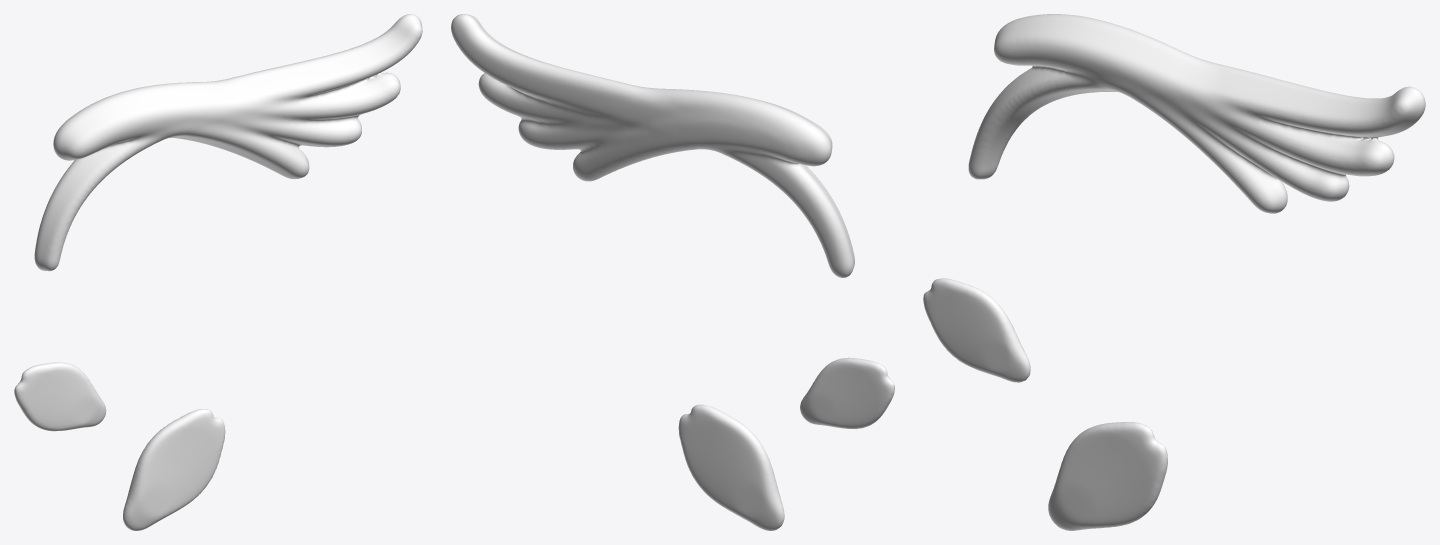
The model's file is announcement left flourishes v0.2.glb.
The picture shows the model from 3 angles, left to right: view 1: azimuth 30°, elevation 25°; view 2: azimuth 150°, elevation 25°; view 3: azimuth 330°, elevation 25°; orthographic projection. The views are drawn at different scales.
Parts seen in each view (by area): view 1: Announcement; view 2: Announcement; view 3: Announcement.
Part boxes in pixels (left/top/right/bottom): Announcement: left=14, top=14, right=422, bottom=530; Announcement: left=451, top=14, right=894, bottom=530; Announcement: left=923, top=14, right=1425, bottom=530.
Bounding box in the file's own units: 119 × 119 × 14.22.
Materials: 1 (1 with a texture image).
